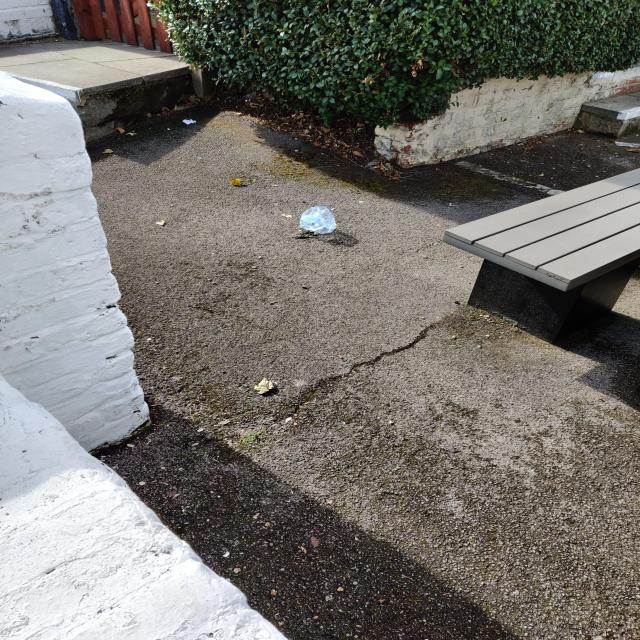litter: (293, 200, 336, 233)
